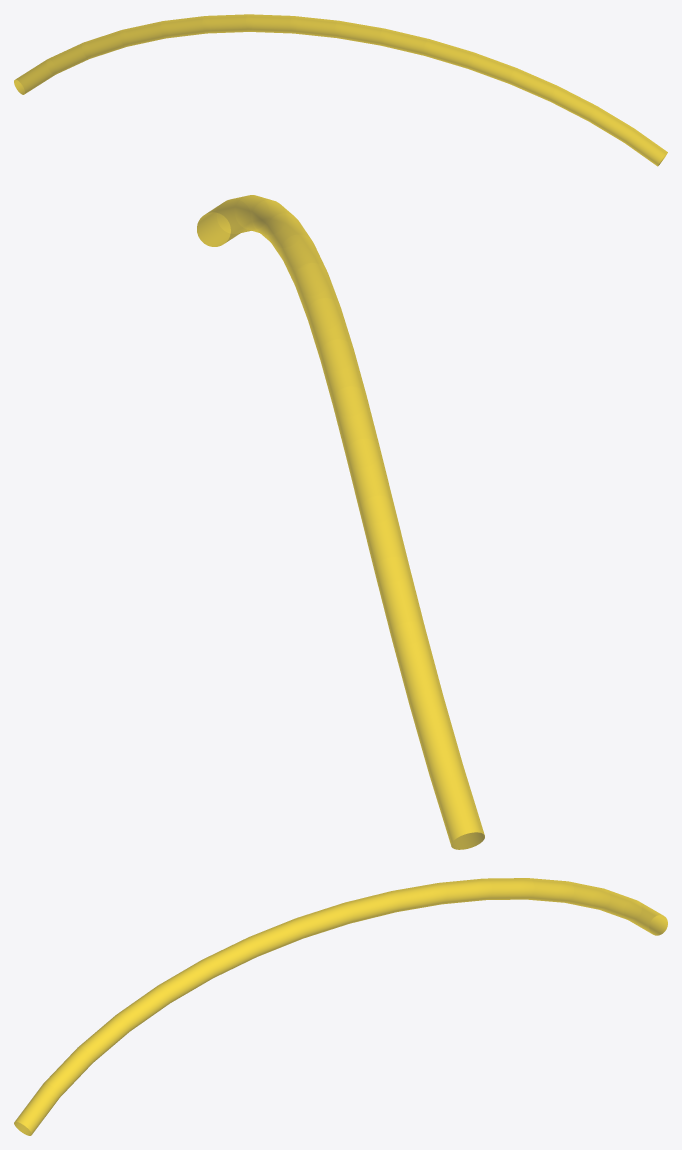
File: Event_17758602_track_151.fbx
3 views of the same model, one above another, from view 1: azimuth 30°, elevation 25°; view 2: azimuth 150°, elevation 25°; view 3: azimuth 270°, elevation 25° (orthographic). The views are drawn at different scales.
Visible parts, largest first — view 1: Model; view 2: Model; view 3: Model.
Boxes of the visible parts, x1,y1,x2,y2 form: Model: (14, 14, 667, 166); Model: (197, 195, 484, 849); Model: (14, 878, 667, 1135).
Size of the model in its own units: 1.04 by 0.2947 by 1.2.
